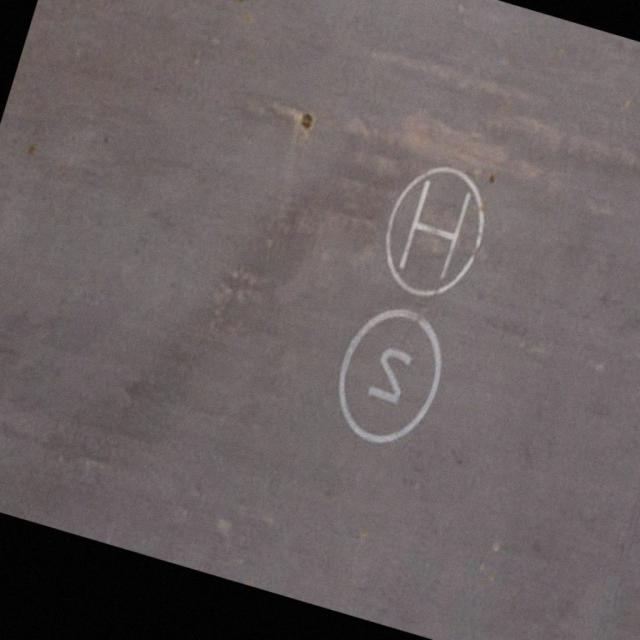helipad: (380, 163, 490, 300)
